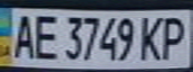3: (60, 12, 84, 61)
4: (100, 14, 121, 62)
7: (78, 12, 100, 61)
9: (115, 14, 139, 62)
A: (6, 10, 39, 60)
E: (30, 11, 60, 61)
K: (136, 14, 166, 62)
P: (157, 12, 190, 61)
